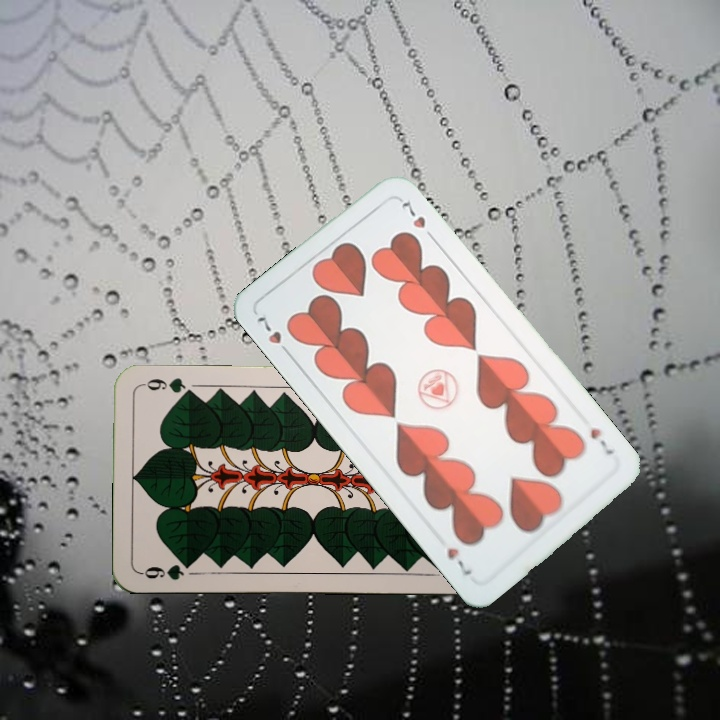G9: (137, 558, 196, 583)
H7: (252, 312, 295, 360), (586, 424, 616, 459)
